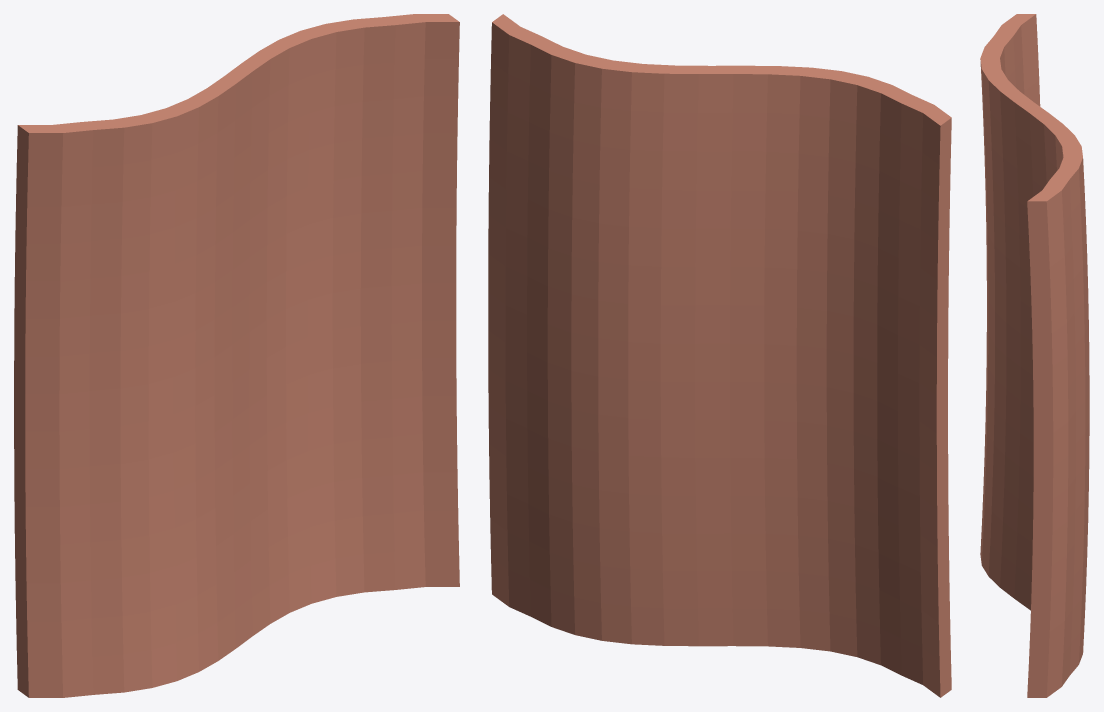
Rendered from hohlpfanne-s-pfanne.glb.
3 renders of one model, left to right at view 1: azimuth 30°, elevation 25°; view 2: azimuth 150°, elevation 25°; view 3: azimuth 270°, elevation 25°, orthographic. The views are drawn at different scales.
Visible parts, largest first — view 1: world; view 2: world; view 3: world.
Boxes of the visible parts, x1=… form: world: x1=14, y1=14, x2=459, y2=697; world: x1=488, y1=14, x2=951, y2=697; world: x1=980, y1=14, x2=1089, y2=697.
Bounding box in the file's own units: 0.34 × 0.42 × 0.0837.
